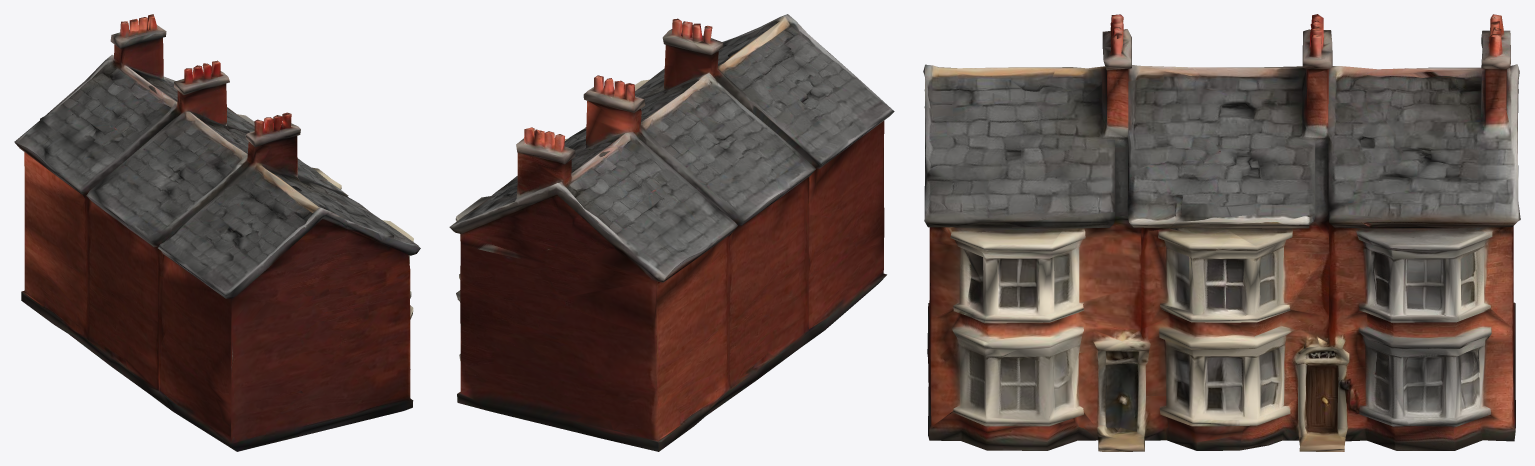
Rendered from haus_backstein.glb.
3 views of the same model, side by side, from view 1: azimuth 30°, elevation 25°; view 2: azimuth 150°, elevation 25°; view 3: azimuth 270°, elevation 25° (orthographic). The views are drawn at different scales.
Parts seen in each view (by area): view 1: tripo_node_f735df59-8975-440e-80bf-727f4fdfe6ee; view 2: tripo_node_f735df59-8975-440e-80bf-727f4fdfe6ee; view 3: tripo_node_f735df59-8975-440e-80bf-727f4fdfe6ee.
Boxes of the visible parts, x1,y1,x2,y2 form: tripo_node_f735df59-8975-440e-80bf-727f4fdfe6ee: (14,14,420,451); tripo_node_f735df59-8975-440e-80bf-727f4fdfe6ee: (449,14,894,451); tripo_node_f735df59-8975-440e-80bf-727f4fdfe6ee: (923,14,1520,451).
Size of the model in its own units: 0.5757 by 0.6758 by 0.9988.
1 material, 1 textured.
